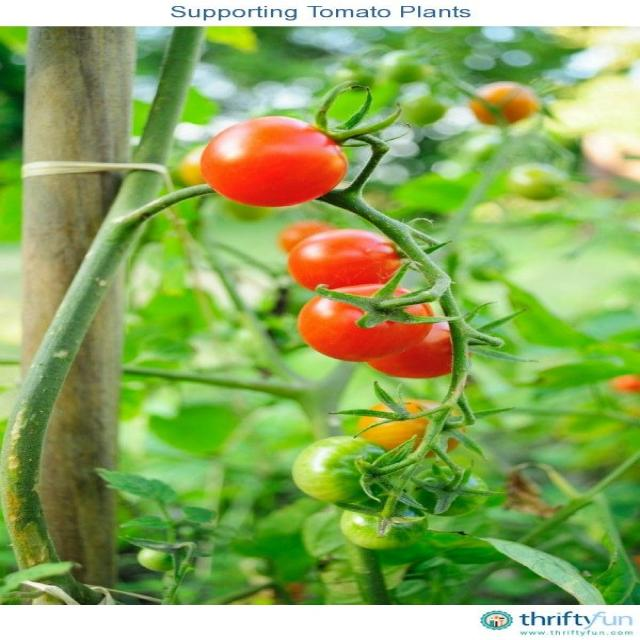level 1: (413, 471, 486, 516)
level 2: (291, 437, 397, 502), (340, 496, 427, 553), (504, 162, 571, 200)
level 5: (354, 400, 468, 461), (469, 81, 536, 126)
level 6: (200, 117, 348, 207), (297, 280, 432, 360), (284, 228, 406, 292), (366, 318, 473, 378), (275, 223, 337, 257)
